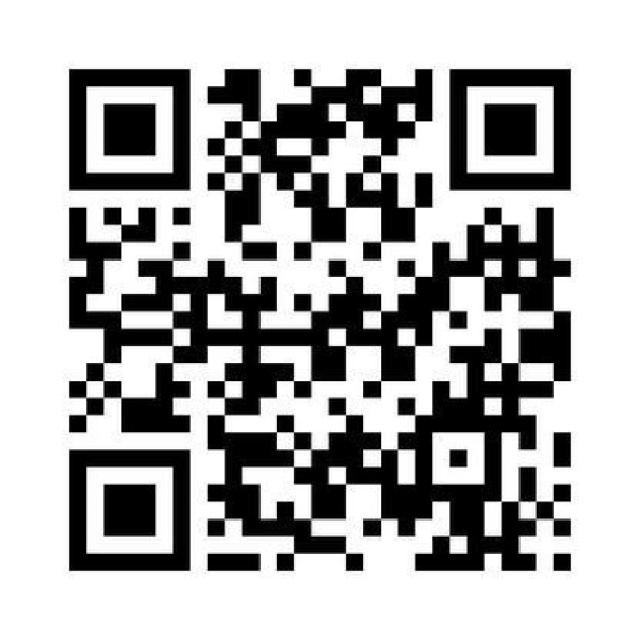QRCode: (59, 61, 584, 578)
